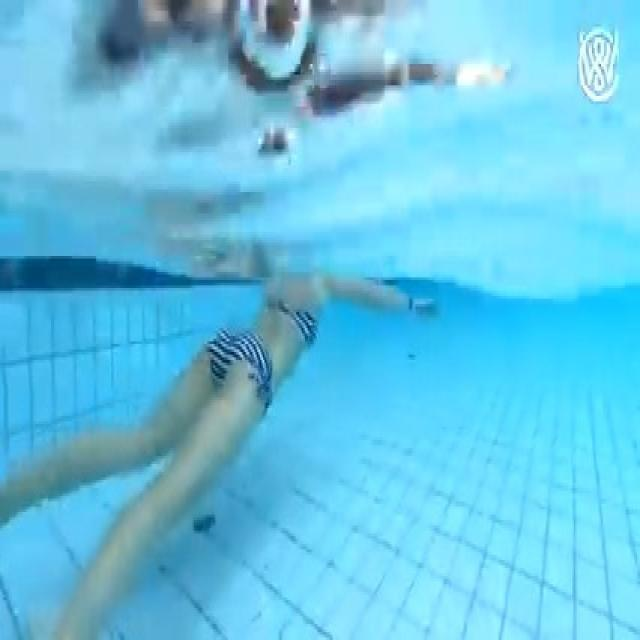Swimming: (0, 264, 439, 631)
